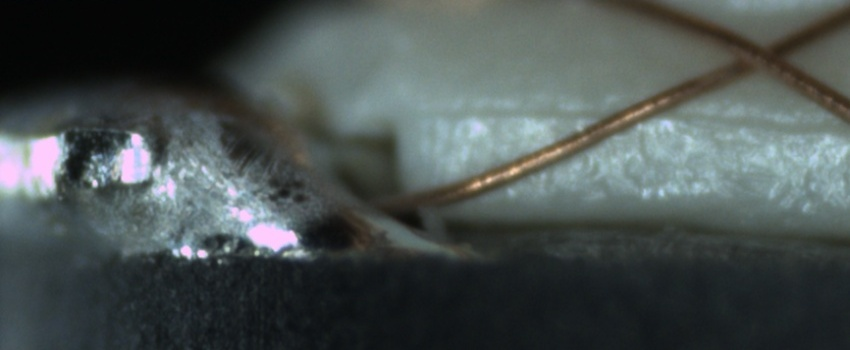CL: (717, 24, 808, 87)
DL: (436, 83, 850, 150)
